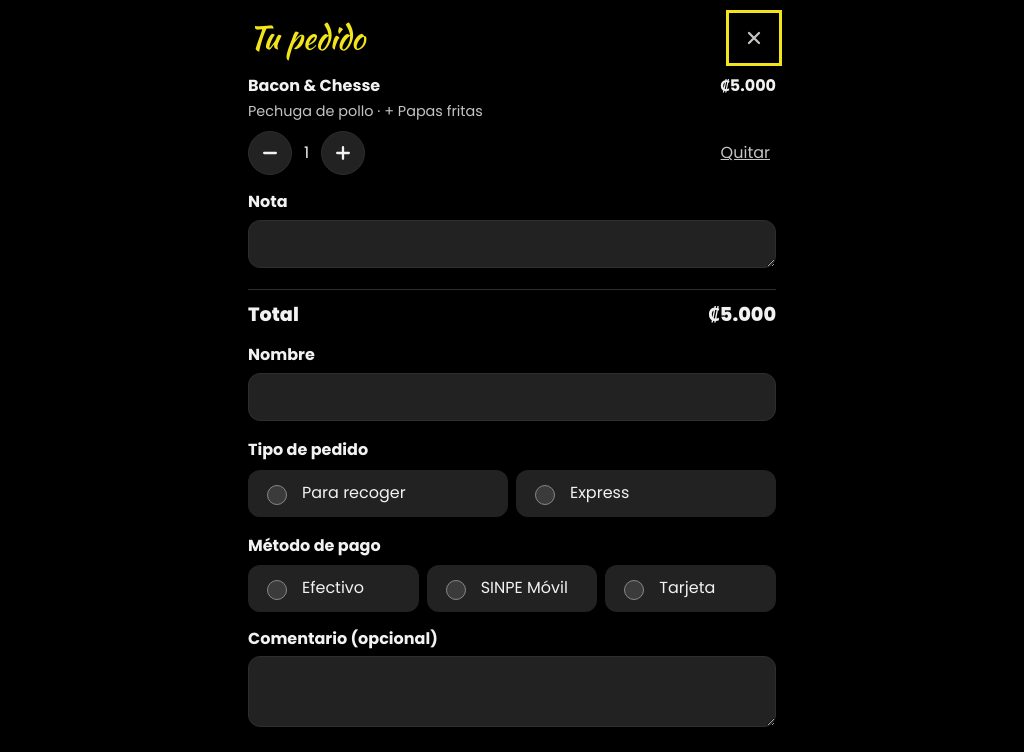
OrderView › la pregunta de envío recibe el foco y Escape la cierra sin vaciar
The width and height of the screenshot is (1024, 752).
Type "Ana" into the field labelled "Nombre". click: (512, 397)
box: [248,373,776,421]
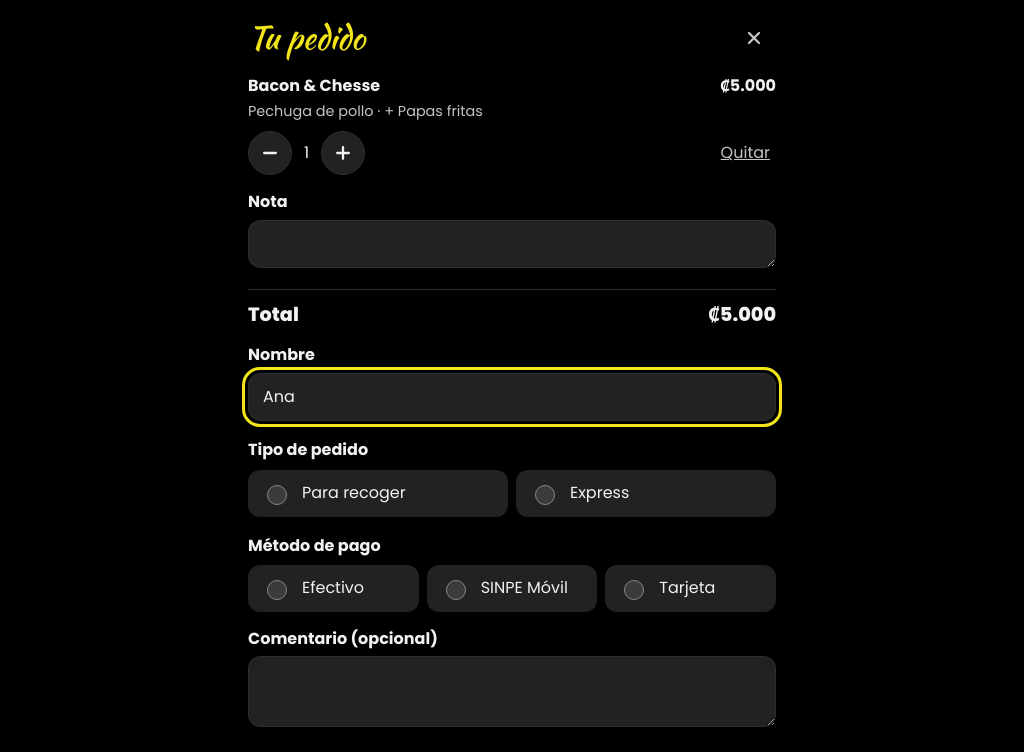
Click the radio button labelled "Para recoger". click: (277, 495)
box: [267,485,287,505]
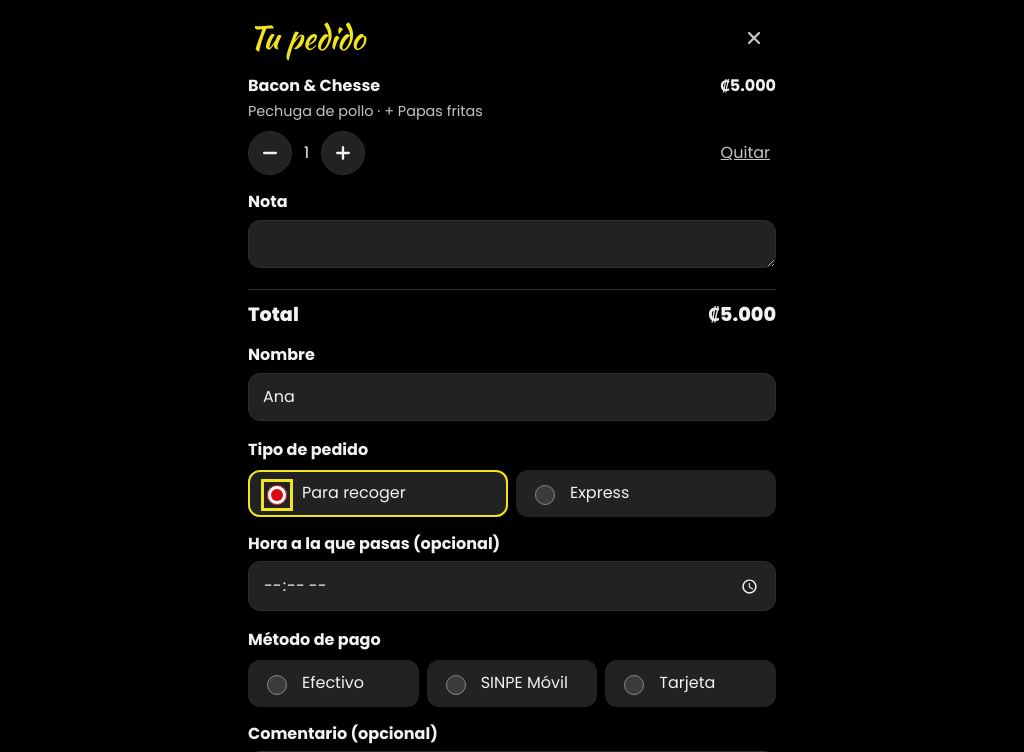
Click the radio button labelled "Efectivo". click: (277, 685)
box: [267,675,287,695]
(page scrolled)
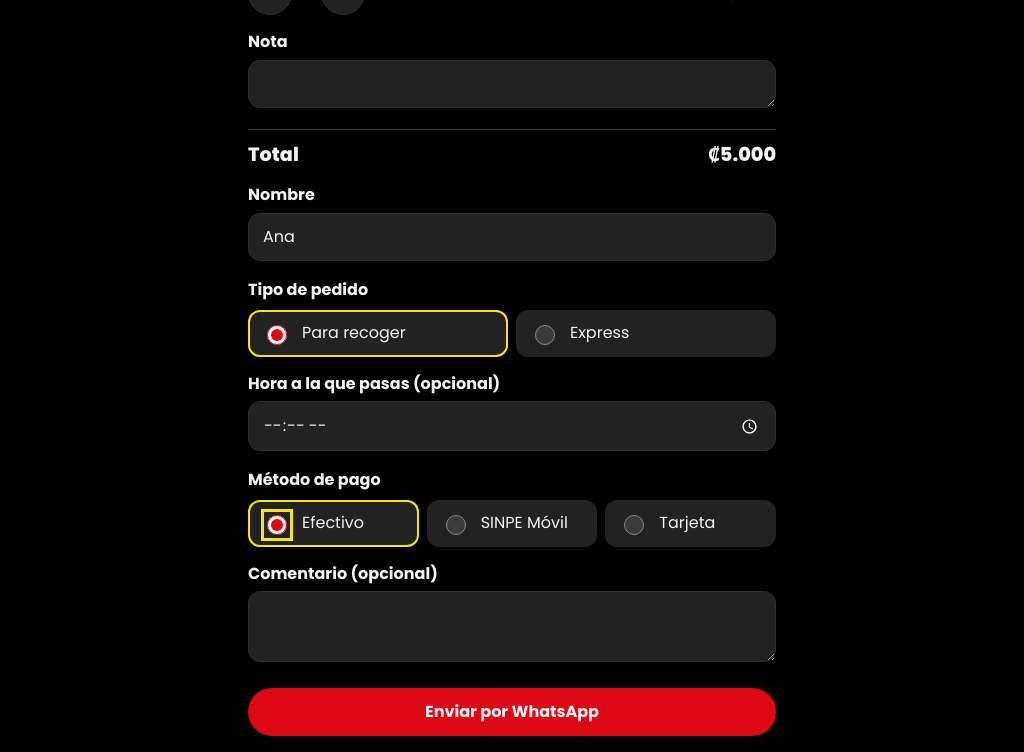
Click the button "Enviar por WhatsApp". click: (512, 712)
box: [248,688,776,736]
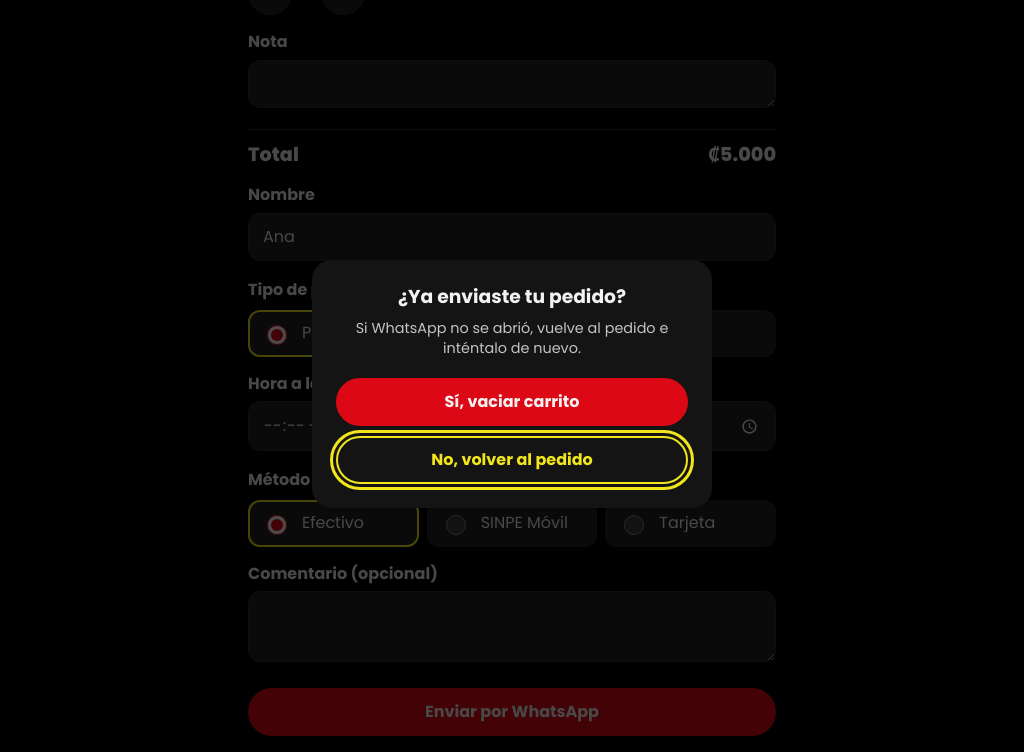
Press Escape
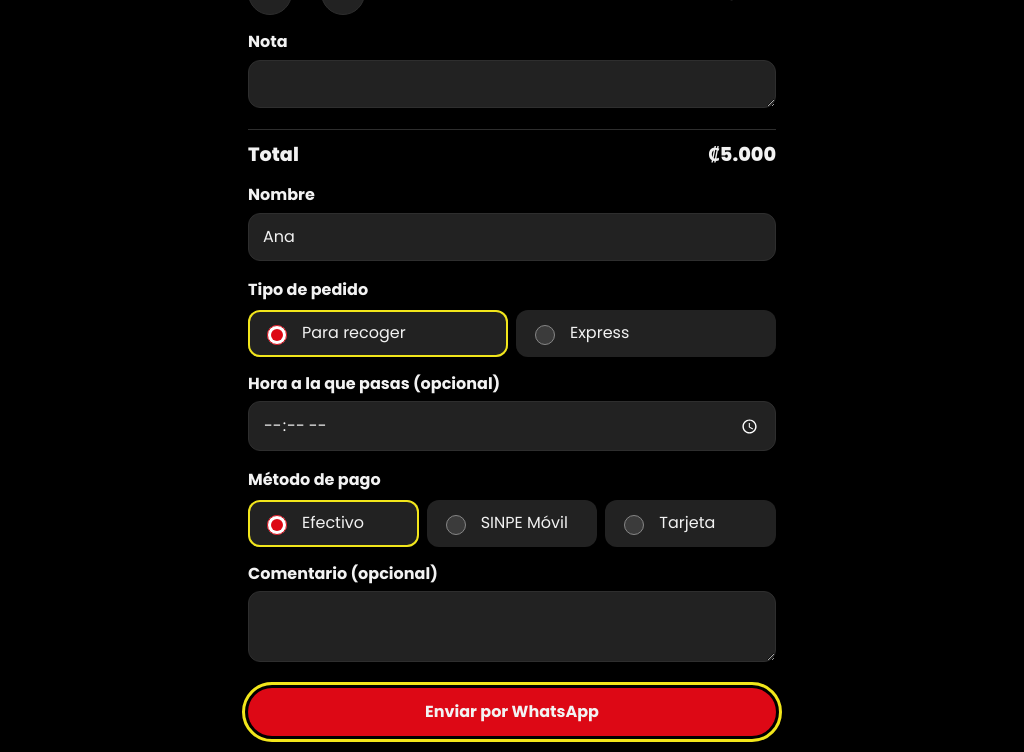
Now the heading "¿Ya enviaste tu pedido?" is gone
